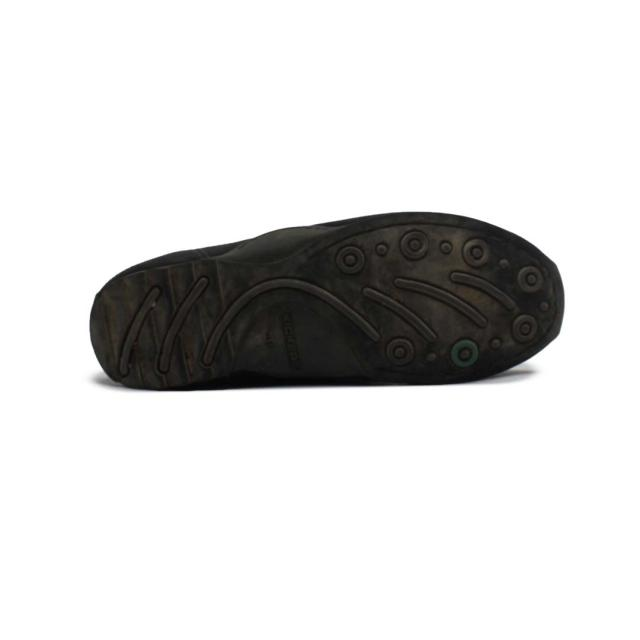outersole: (90, 216, 565, 388)
